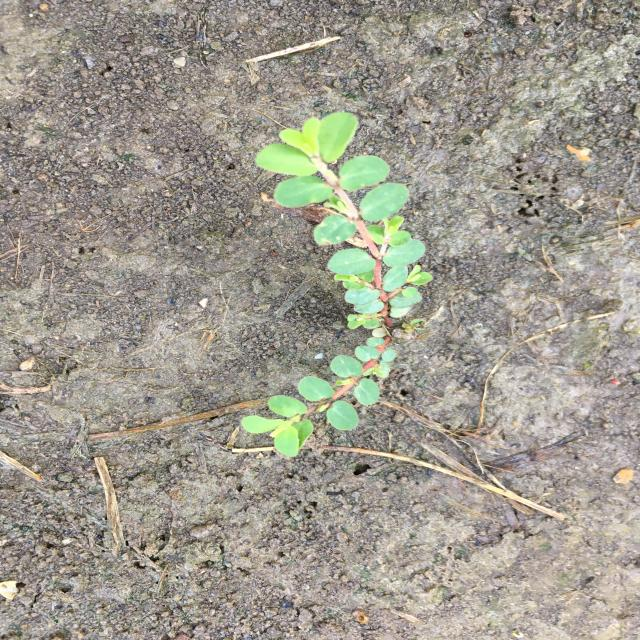SpottedSpurge: (236, 110, 438, 461)
